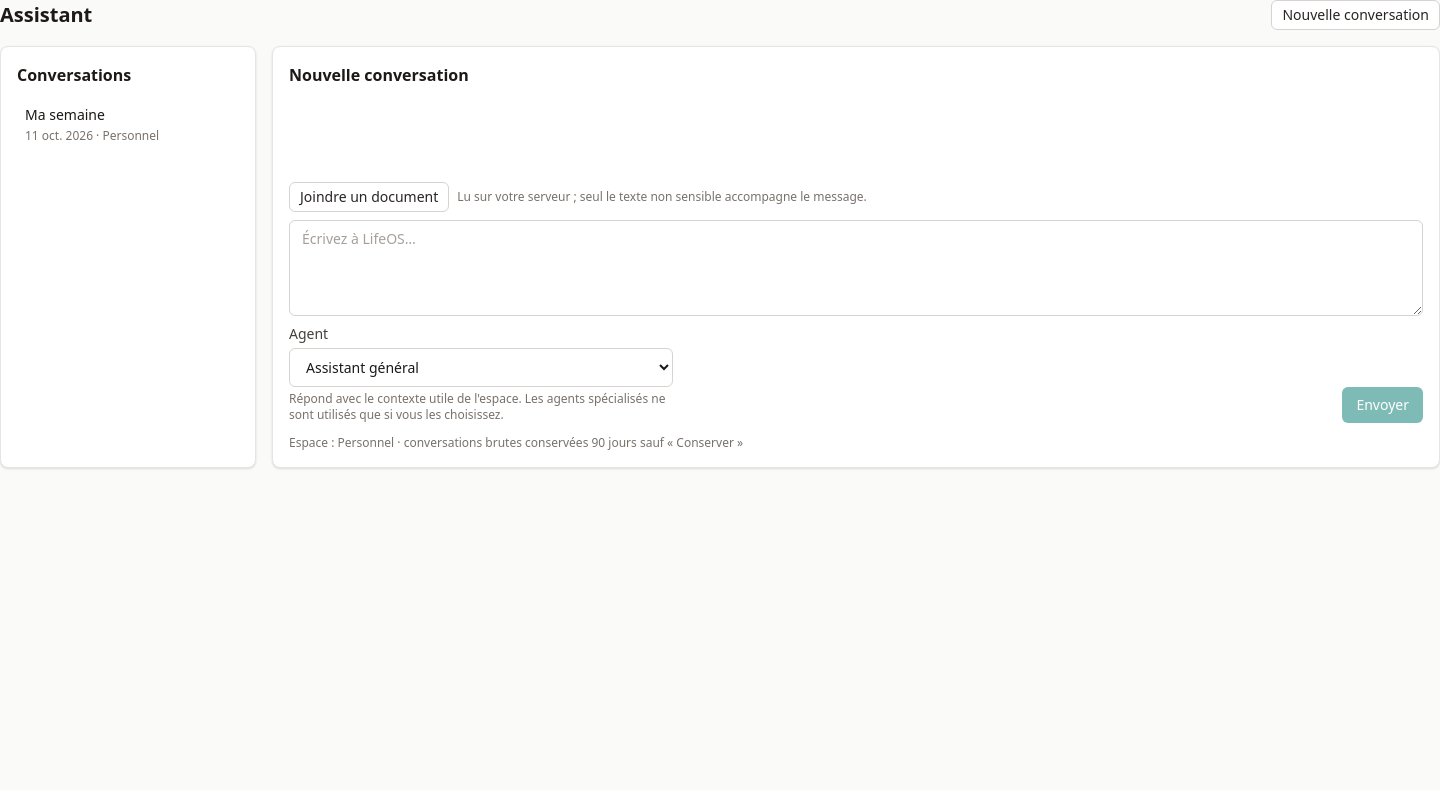
Test case: Assistant page: specialised agents › labels agent replies and sends the chosen agent, then grants access and resends
Click the button "Ma semaine 11 oct. 2026 · Personnel".
click(128, 125)  # box top-left (17, 99), bottom-right (239, 151)
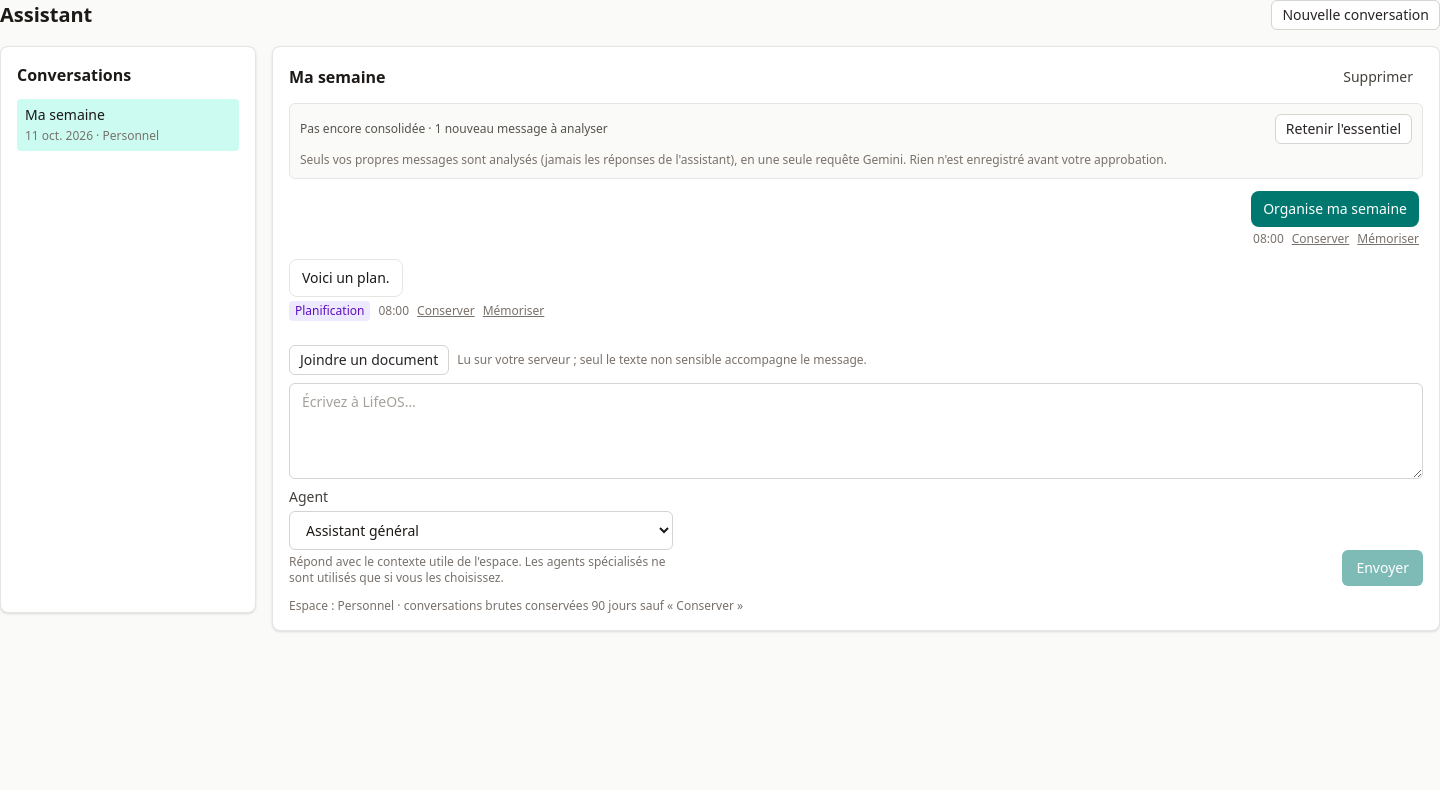
Result: the text "Voici un plan." is shown at top-left (289, 259), bottom-right (403, 297)
Result: the text "Planification" is shown at top-left (289, 301), bottom-right (370, 321)
Select "Planification" in the dropdown labelled "Agent" at (481, 530), box top-left (289, 511), bottom-right (673, 550)
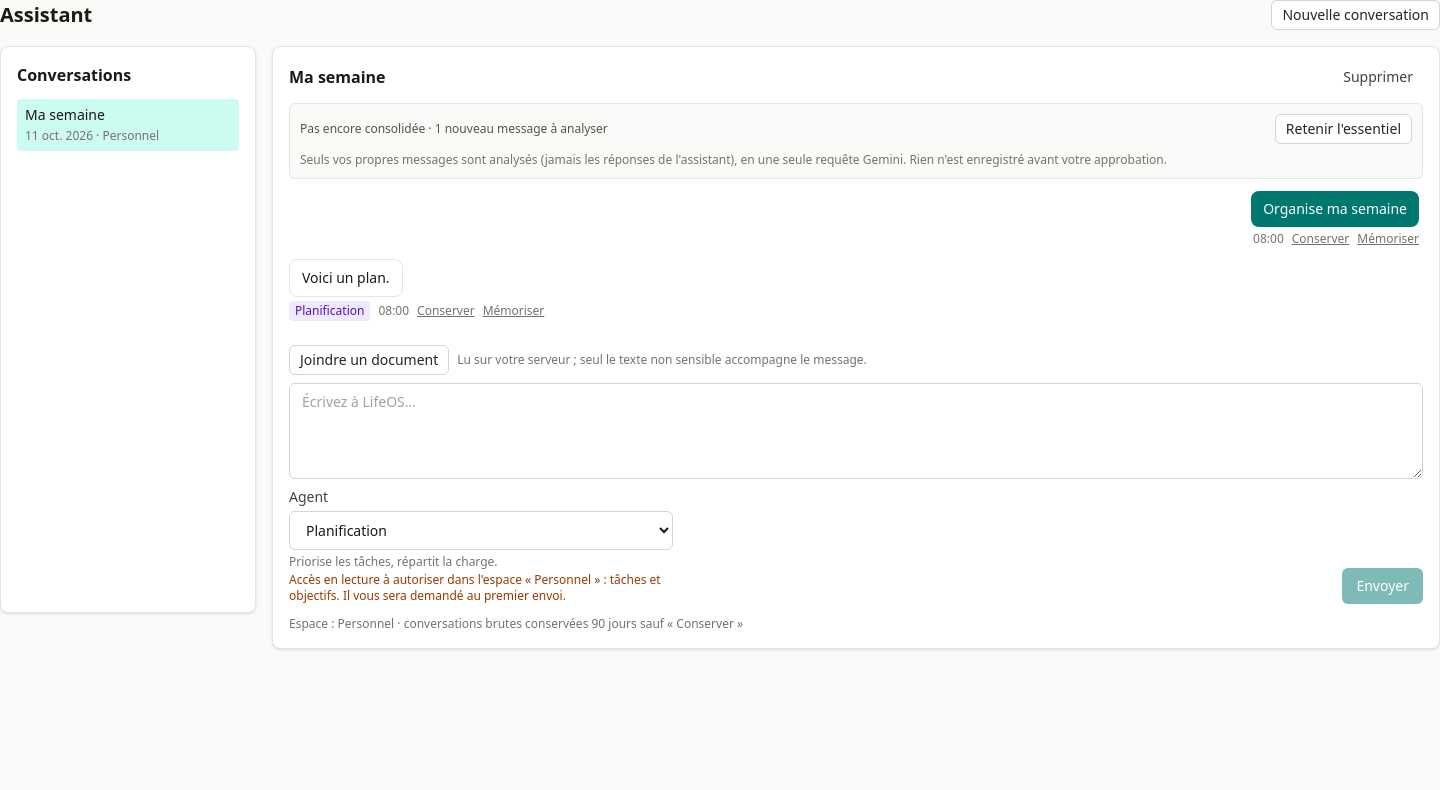
Result: the text "Accès en lecture à autoriser" is shown at top-left (289, 571), bottom-right (534, 588)
Type "Que faire en premier ?" into the text box named "Votre message".
click(856, 431); type("Que faire en premier ?")  # box top-left (289, 383), bottom-right (1423, 479)
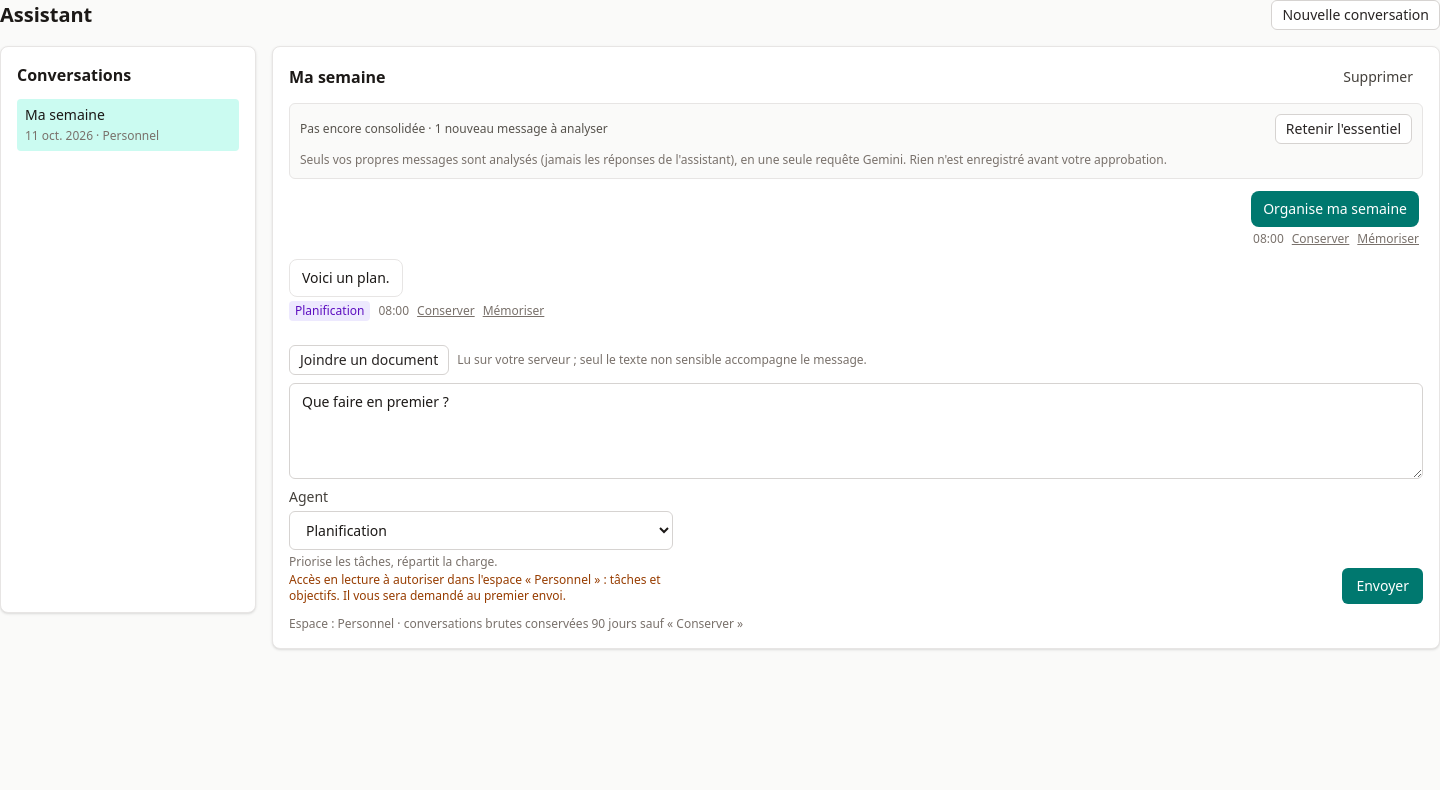
Click the button "Envoyer".
click(1383, 586)  # box top-left (1342, 568), bottom-right (1423, 604)
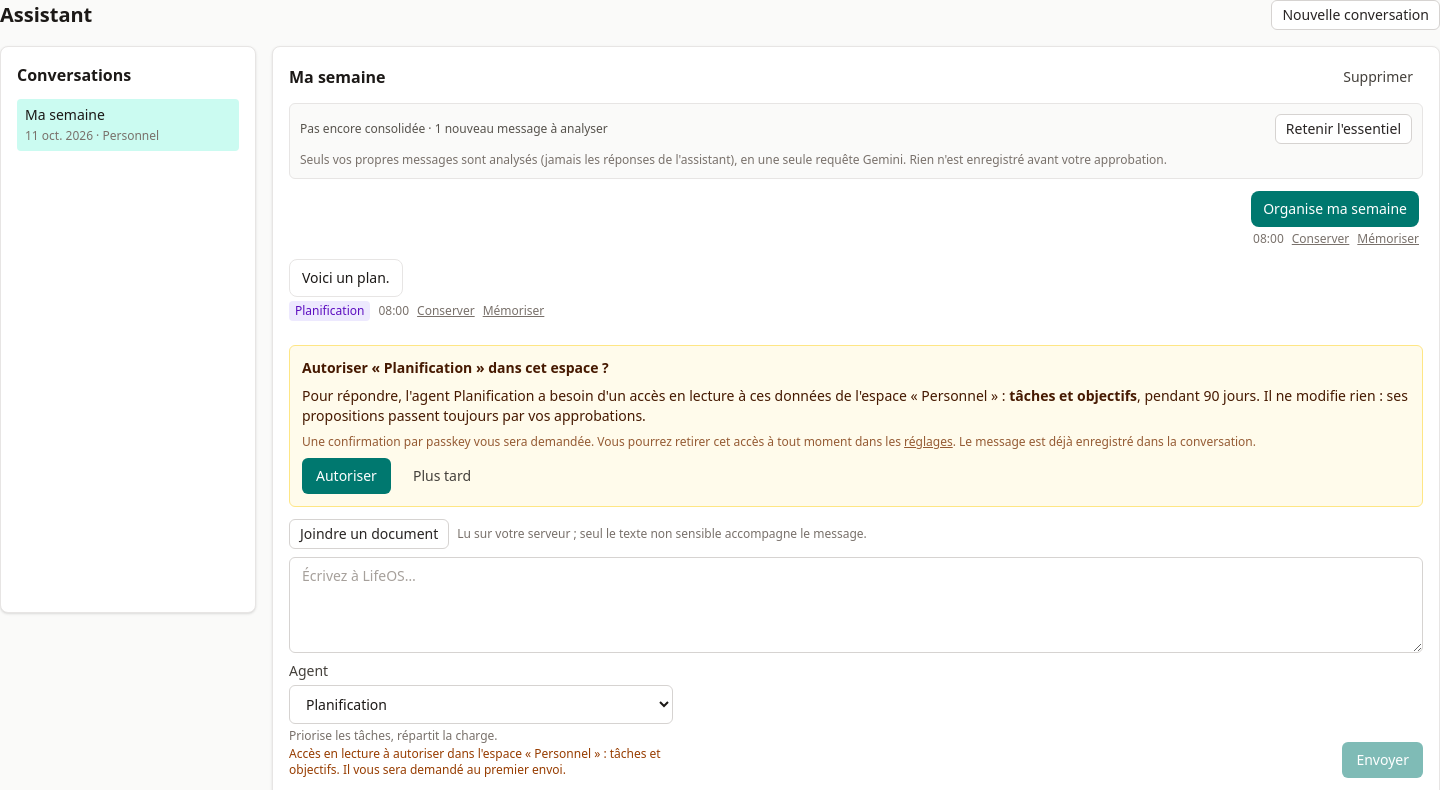
Click the button "Autoriser".
click(346, 476)  # box top-left (302, 458), bottom-right (391, 494)
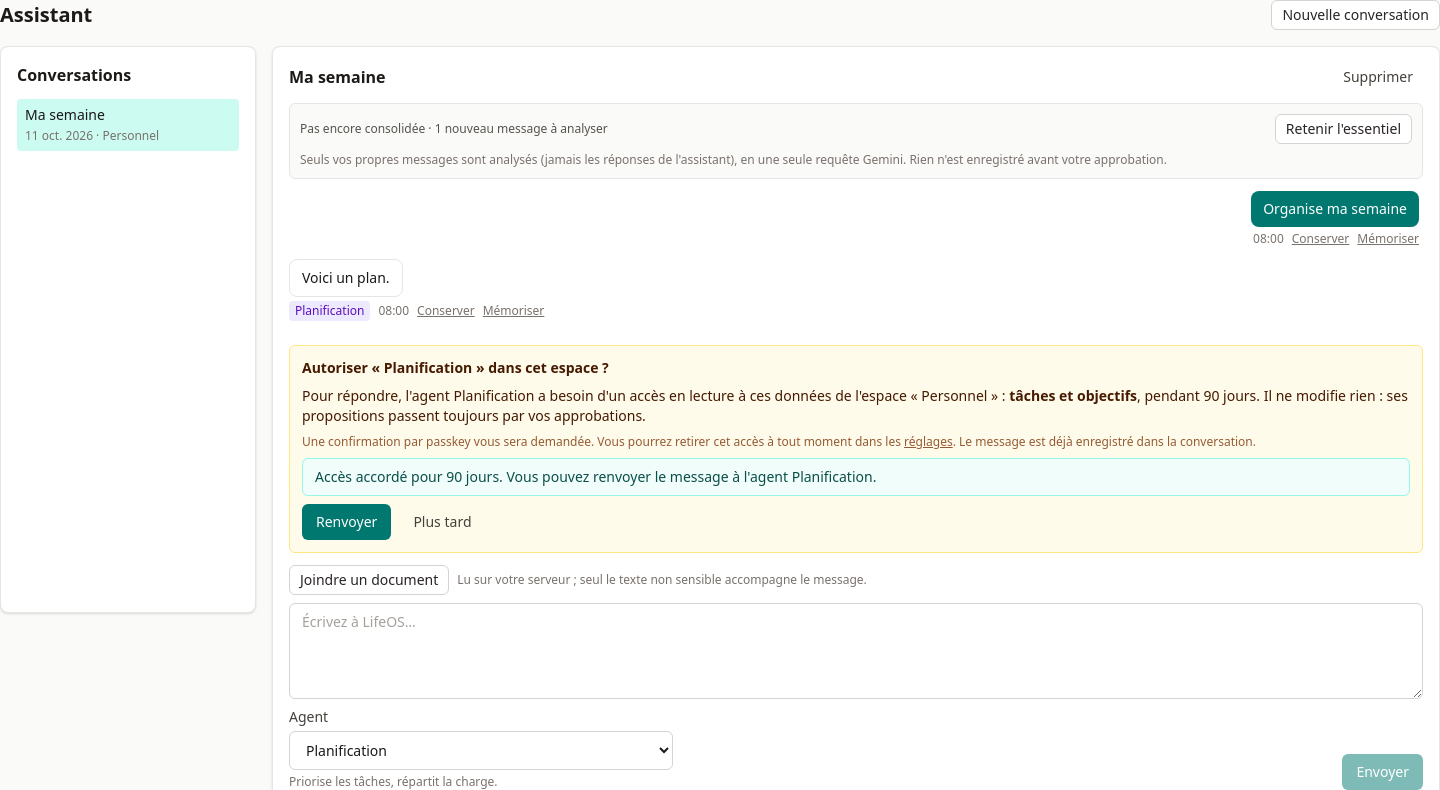
Click the button "Renvoyer".
click(347, 522)  # box top-left (302, 504), bottom-right (391, 540)
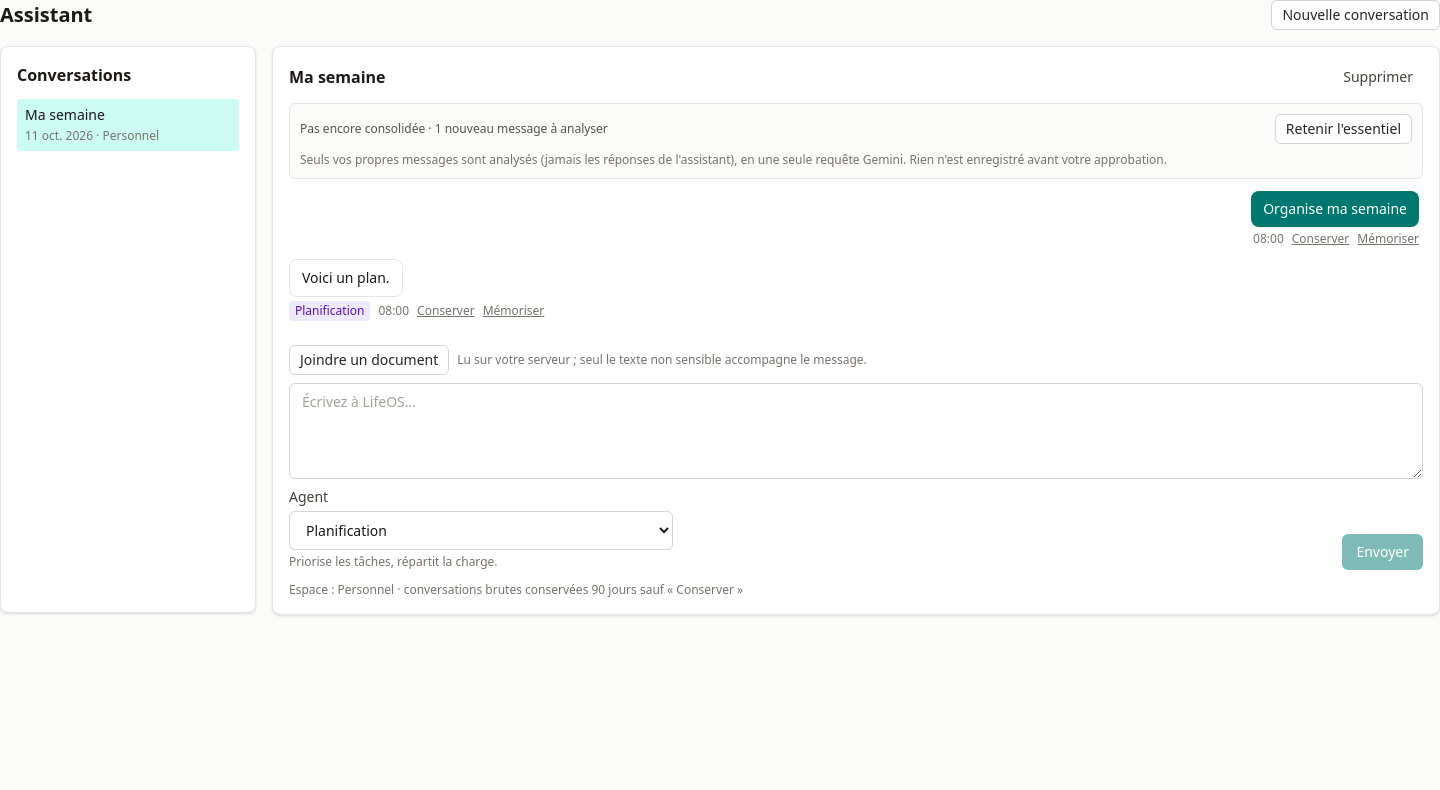
Result: the message "renvoyer" is gone
